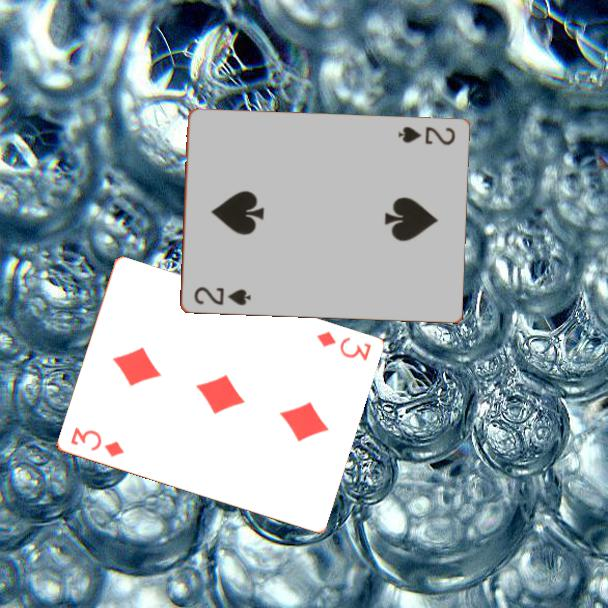d03: (66, 424, 127, 461), (313, 328, 374, 364)
s02: (395, 123, 458, 148), (190, 284, 253, 308)
